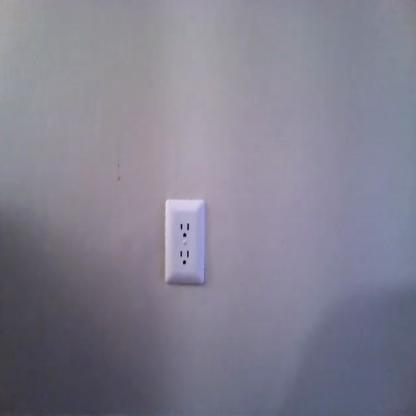OUTLET: (165, 198, 204, 284)
